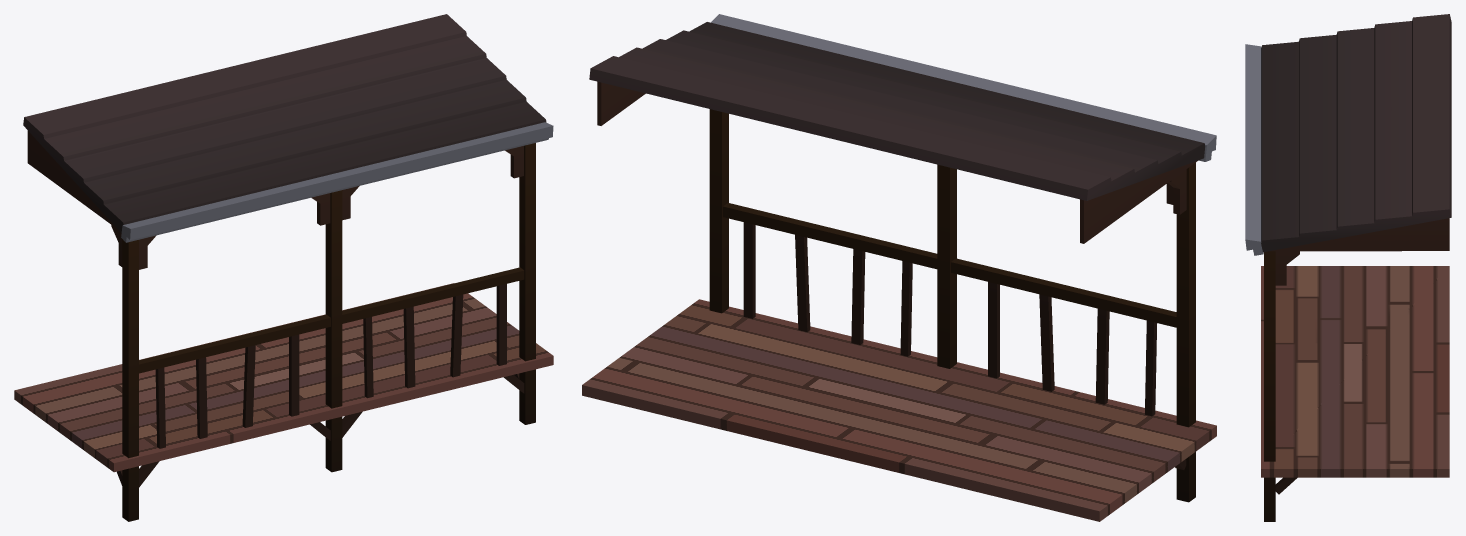
Rendered from Deck 5M v02.glb.
3 views of the same model, side by side, from view 1: azimuth 30°, elevation 25°; view 2: azimuth 150°, elevation 25°; view 3: azimuth 270°, elevation 25° (orthographic). The views are drawn at different scales.
Parts seen in each view (by area): view 1: Deck 5M v02; view 2: Deck 5M v02; view 3: Deck 5M v02.
Part boxes in pixels (x1=…): Deck 5M v02: x1=14, y1=14, x2=553, y2=521; Deck 5M v02: x1=582, y1=14, x2=1216, y2=521; Deck 5M v02: x1=1245, y1=14, x2=1451, y2=521.
Size of what is drawn, in the model's own units: 5.1 by 3.71 by 2.19.
Materials: 2 (2 with a texture image).
